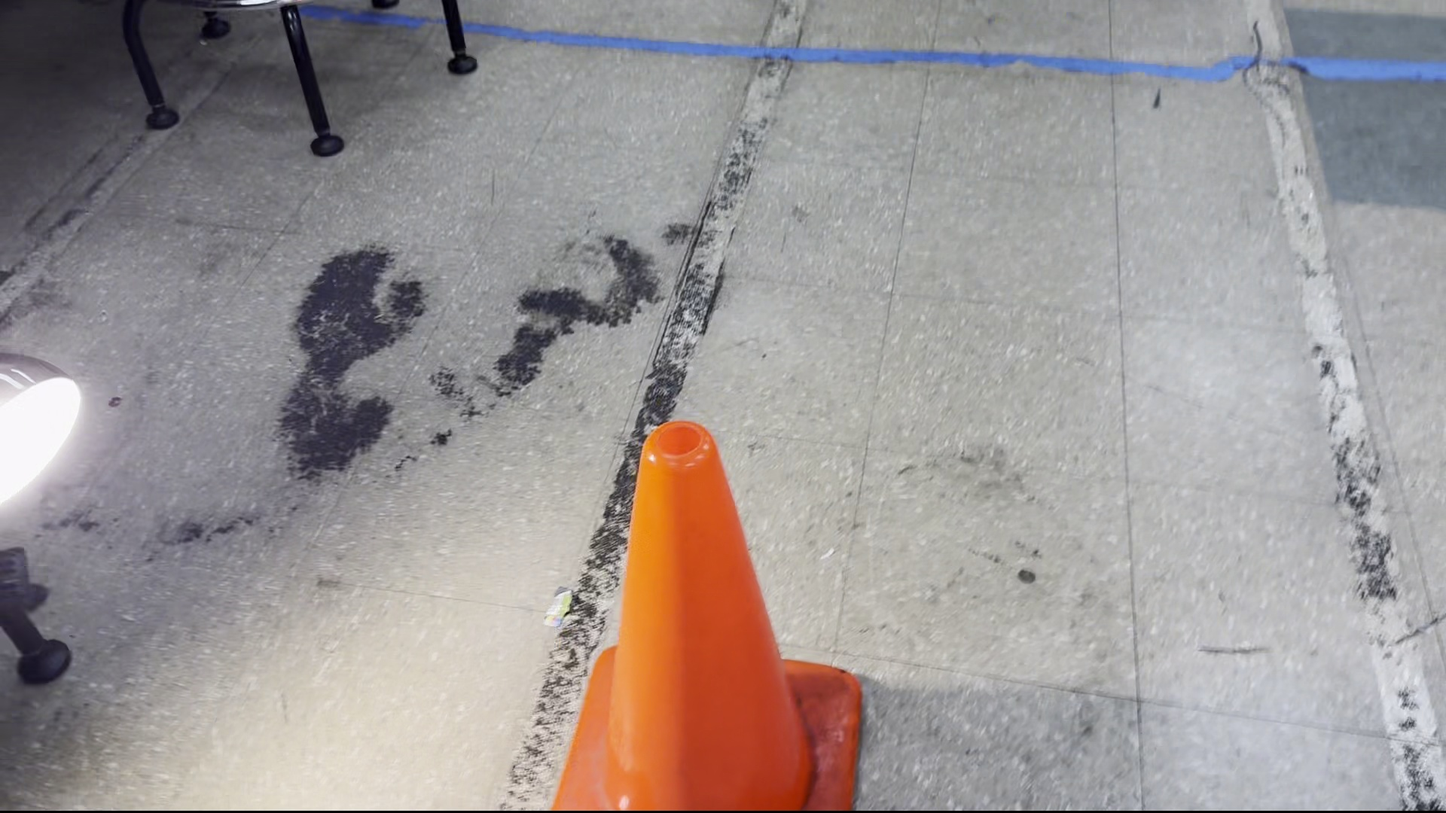traffic_cone: (550, 419, 861, 811)
